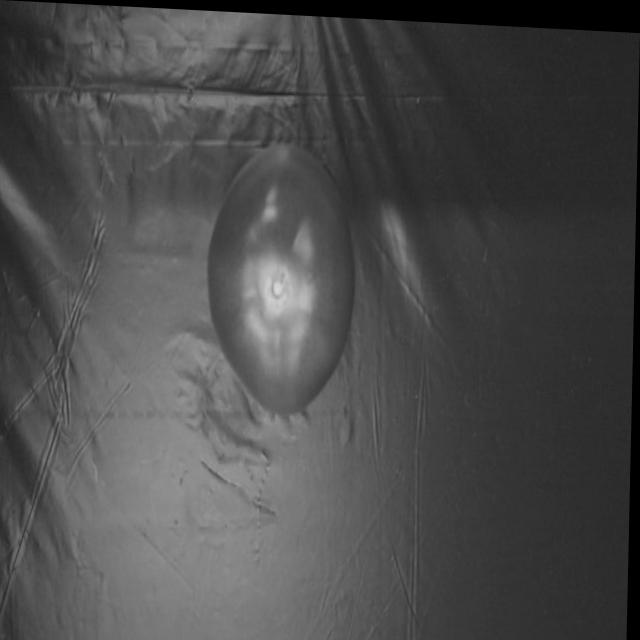kirmizi: (193, 121, 371, 433)
